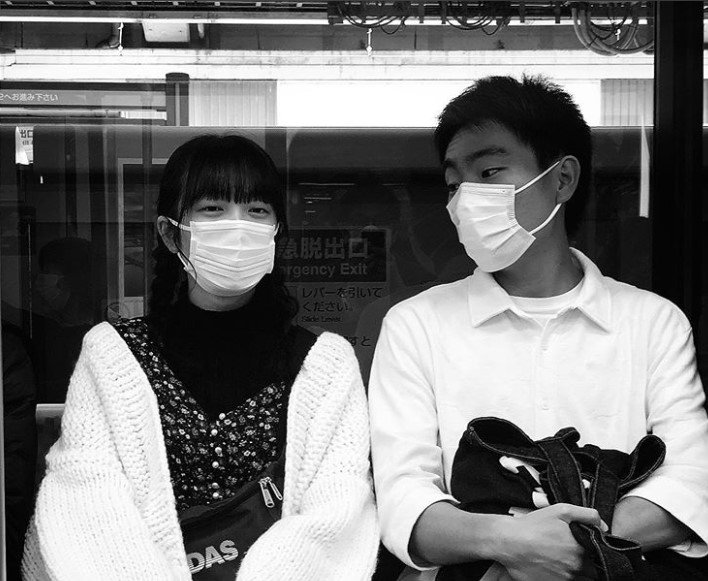face_with_mask: (433, 82, 593, 275), (150, 138, 284, 302)
